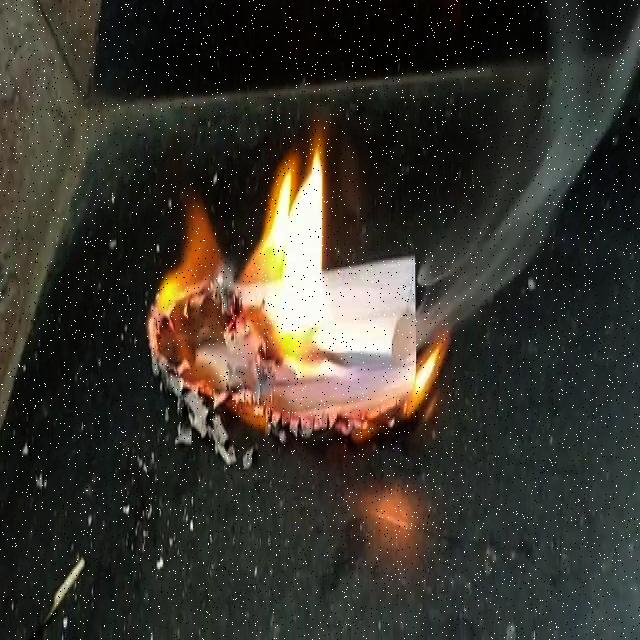fire: (165, 155, 362, 390), (417, 350, 452, 429)
smoke: (426, 26, 640, 322)
